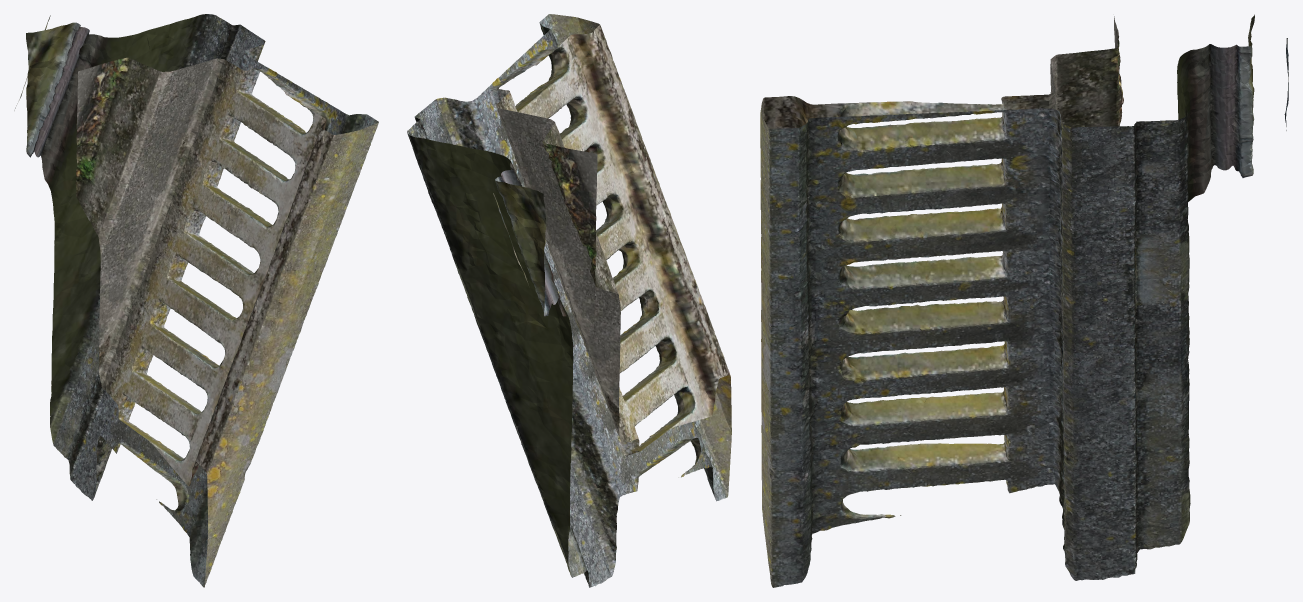
Rendered from Tile_+007_+006.obj.
3 renders of one model, left to right at view 1: azimuth 30°, elevation 25°; view 2: azimuth 150°, elevation 25°; view 3: azimuth 270°, elevation 25°, orthographic. The views are drawn at different scales.
Size of the model in its own units: 0.8967 by 2.09 by 1.74.
1 material, 1 textured.
